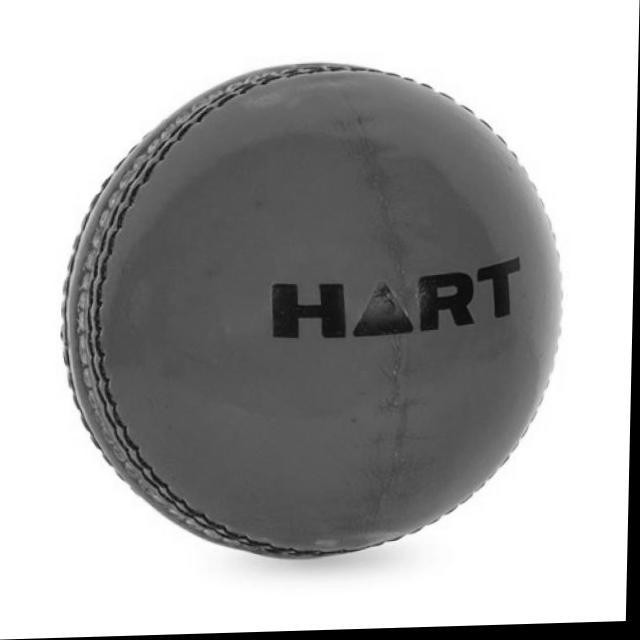cricket ball: (63, 64, 567, 562)
